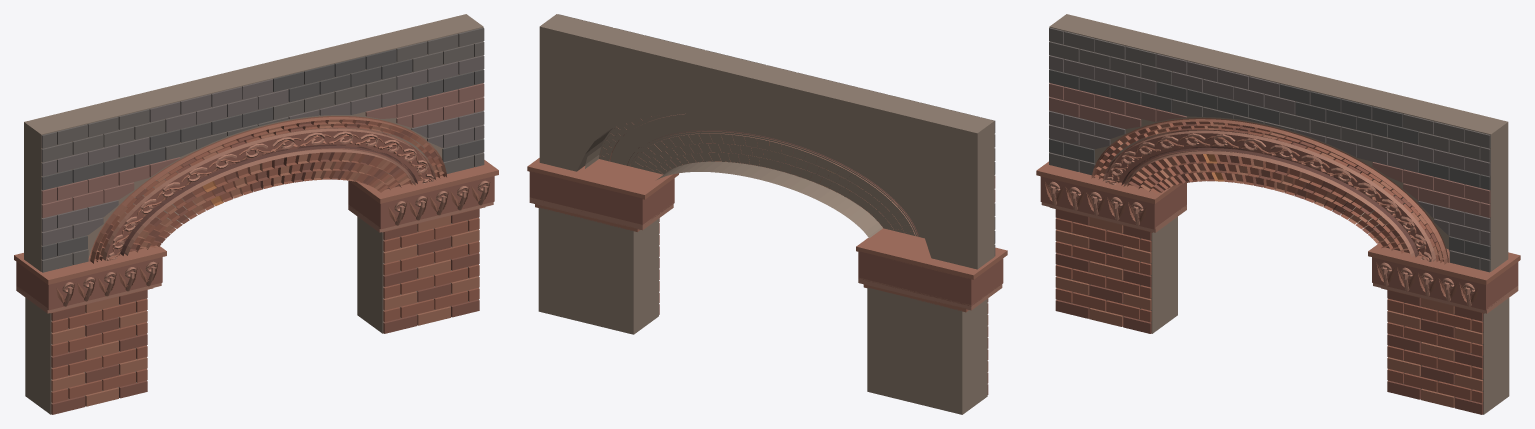
The model's file is jingan-kangding-85-porch-carved-brick-arch-lod.glb.
3 renders of one model, left to right at view 1: azimuth 30°, elevation 25°; view 2: azimuth 150°, elevation 25°; view 3: azimuth 330°, elevation 25°, orthographic.
Parts seen in each view (by area): view 1: 康定东路85号李宅门廊砖雕拱券; view 2: 康定东路85号李宅门廊砖雕拱券; view 3: 康定东路85号李宅门廊砖雕拱券.
Boxes of the visible parts, <box> form: 康定东路85号李宅门廊砖雕拱券: <box>14,14,498,414</box>; 康定东路85号李宅门廊砖雕拱券: <box>527,14,1007,414</box>; 康定东路85号李宅门廊砖雕拱券: <box>1036,14,1520,414</box>.
Bounding box in the file's own units: 6 × 3.58 × 0.8708.
